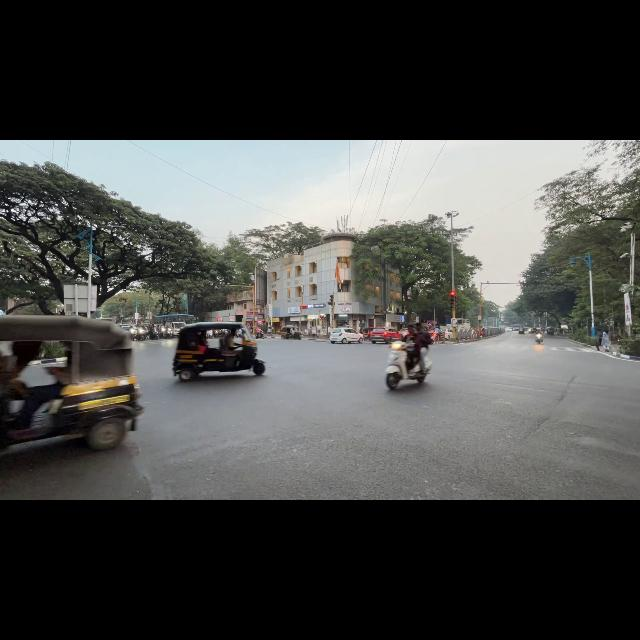bus: (154, 314, 195, 334)
car: (370, 327, 403, 343), (330, 328, 363, 343), (441, 329, 453, 340), (360, 328, 370, 340), (400, 328, 408, 336), (505, 327, 512, 331)
motorcycle: (386, 342, 426, 389), (129, 327, 146, 340), (149, 327, 158, 339), (164, 327, 173, 338), (535, 334, 543, 343), (256, 332, 263, 338)
